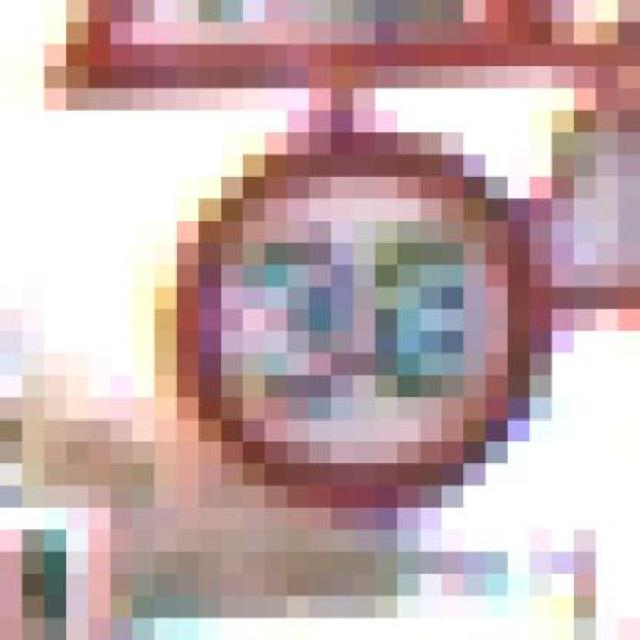Speed Limit 30 KMPh: (110, 132, 596, 552)
